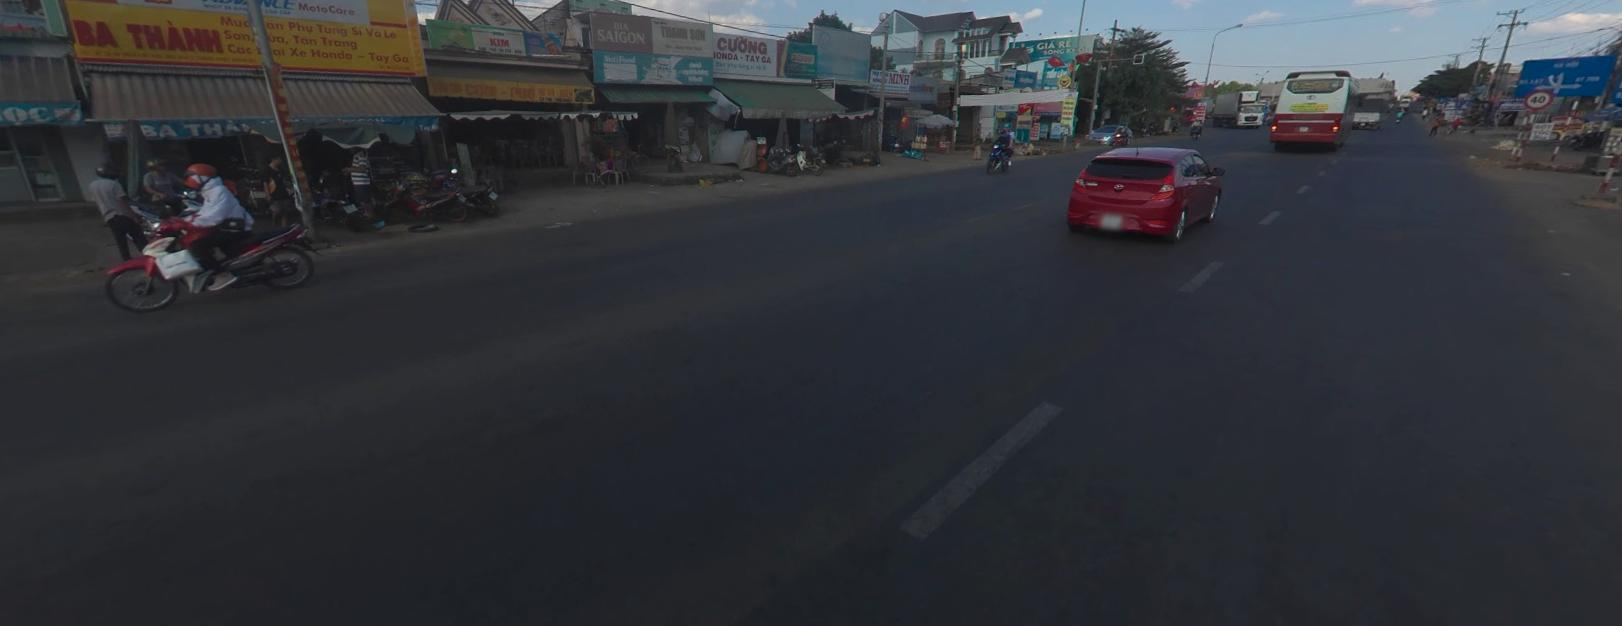Gioi han toc do: (1524, 88, 1553, 108), (1524, 89, 1551, 108), (1525, 89, 1552, 107)
